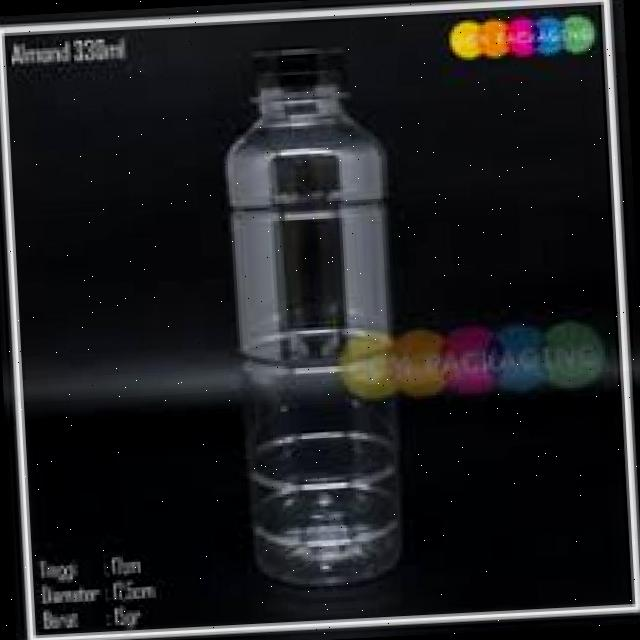bottle: (195, 37, 459, 596)
